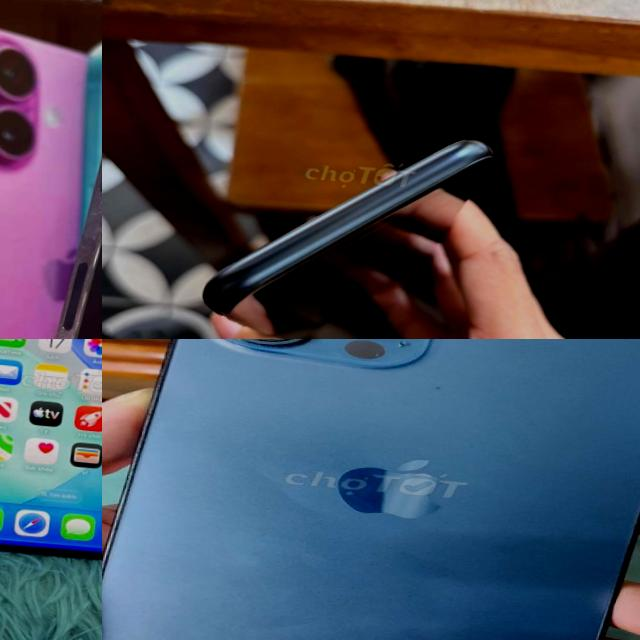scratch: (188, 107, 508, 339), (80, 99, 102, 238)
